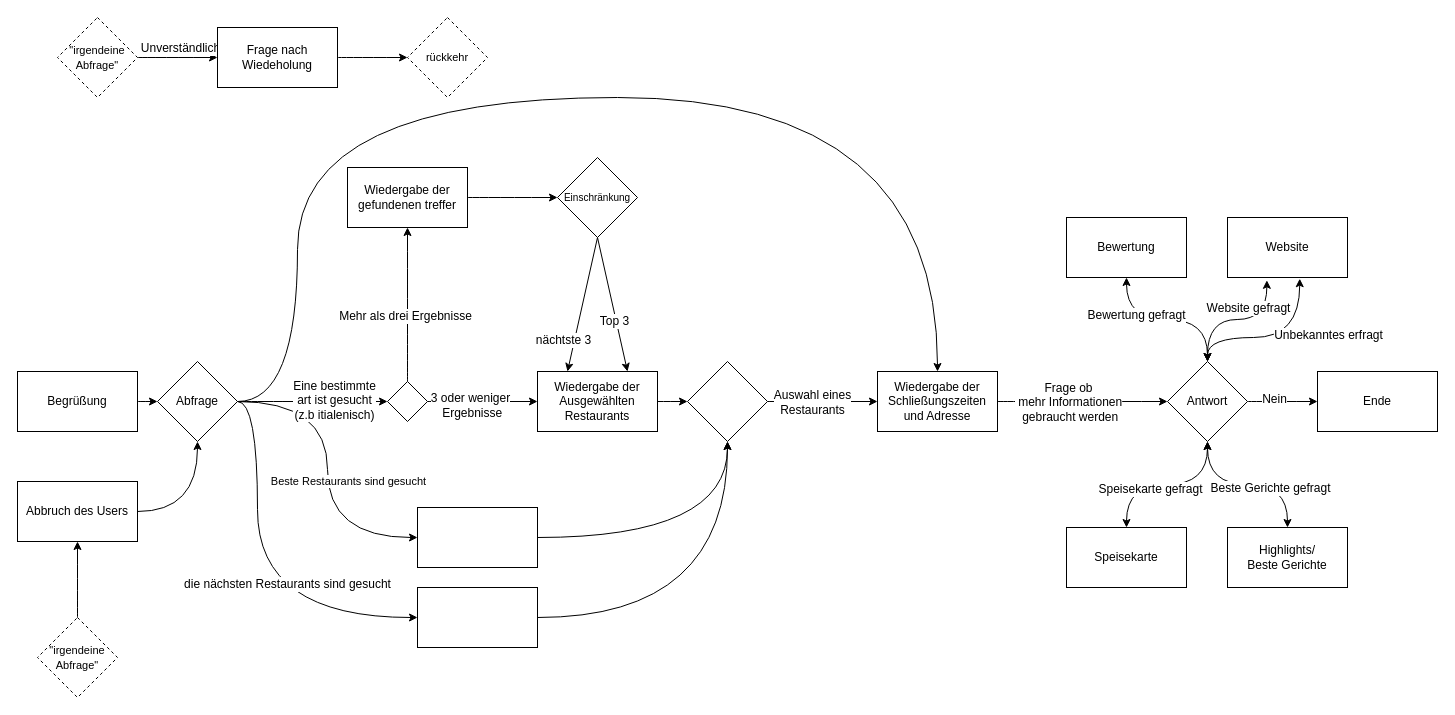
The diagram is 1455 pixels wide and 715 high, and some of its shapes have lost their labels. The shapes that lost their labels are listed below. From the top down, each one's box as (x1, y1, x2, y2) in pixels, then its label:
(686, 360, 768, 442): Auswahl
(416, 506, 538, 568): Wiedergabe von den 3 Top Restaurants
(416, 586, 538, 648): Wiedergabe von den 3 nächsten Restaurants
